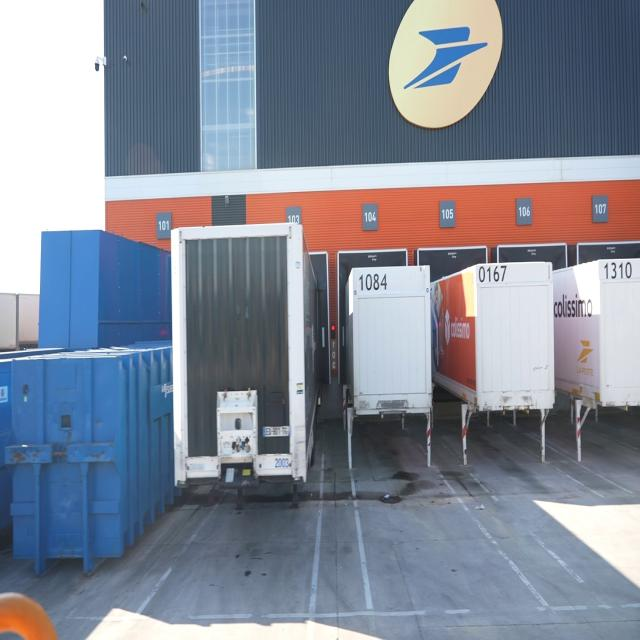Code: (356, 269, 391, 295), (477, 263, 508, 284), (603, 260, 632, 281)
